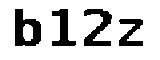1: (48, 8, 78, 51)
2: (79, 4, 113, 51)
b: (8, 6, 45, 49)
z: (116, 15, 150, 52)
